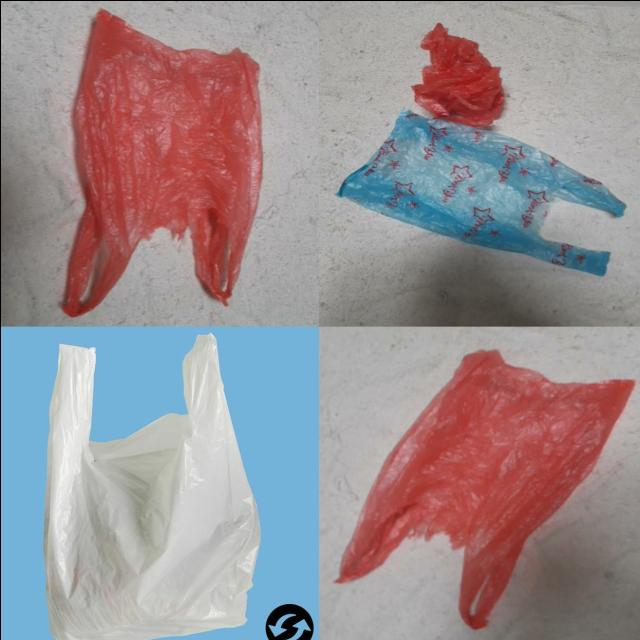plastik: (336, 349, 634, 627), (43, 333, 259, 640), (61, 8, 261, 315), (336, 110, 625, 274), (412, 23, 503, 125)
